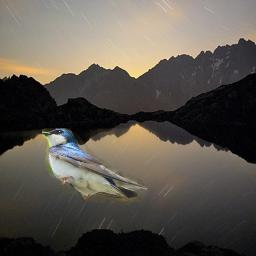Swallow: (42, 128, 148, 207)
